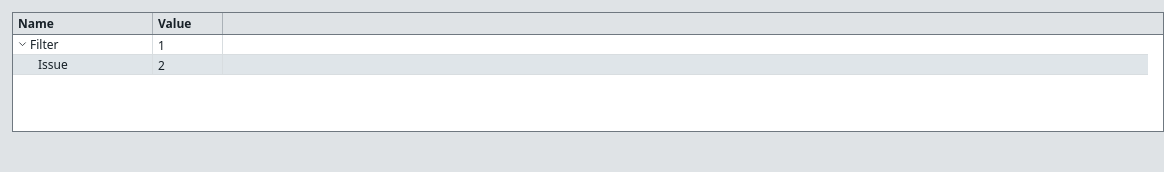
it: unified DataView › keeps a collapsed descendant selected and available to its inspector
Click the button named "Collapse Filter" at [22, 44], box [16,36,28,54]
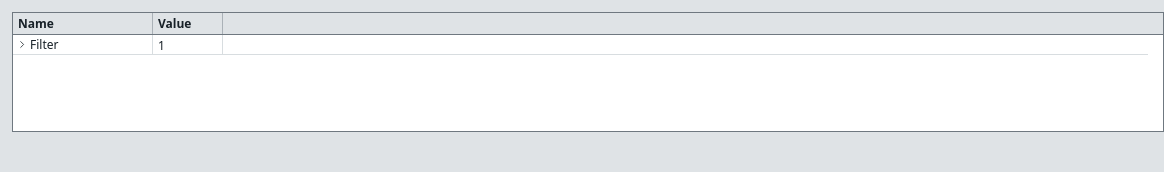
Result: the text "Issue" is gone
